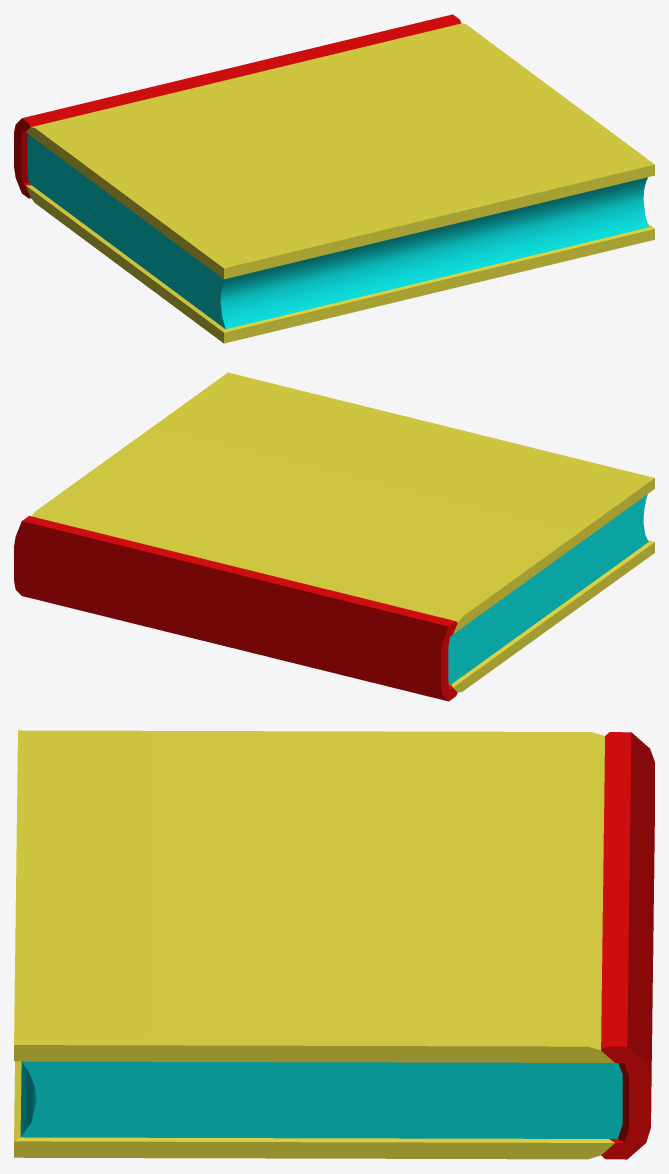
File: Livre-ok-Low.fbx
3 views of the same model, one above another, from view 1: azimuth 30°, elevation 25°; view 2: azimuth 150°, elevation 25°; view 3: azimuth 270°, elevation 25° (orthographic). The views are drawn at different scales.
Parts seen in each view (by area): view 1: Livre6; view 2: Livre6; view 3: Livre6.
Boxes of the visible parts, x1,y1,x2,y2 form: Livre6: [14, 14, 654, 343]; Livre6: [14, 372, 654, 701]; Livre6: [14, 730, 654, 1159].
Bounding box in the file's own units: 6.82 × 1.13 × 5.84.
